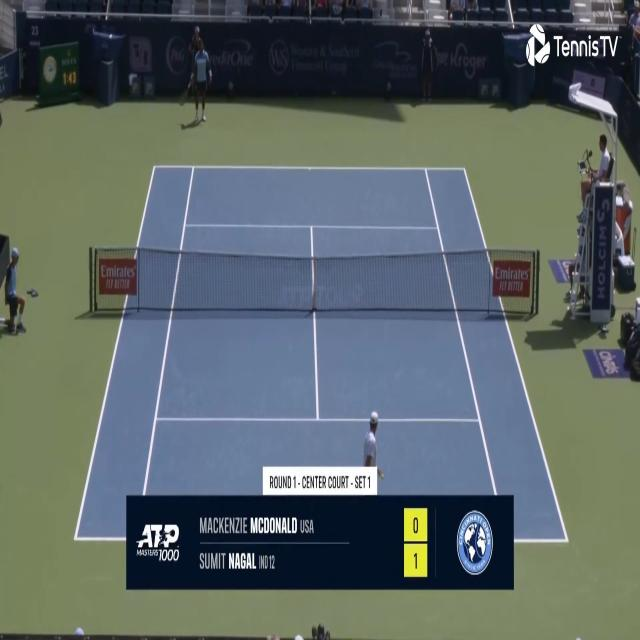tennis-player: (177, 24, 215, 131), (351, 388, 388, 495)
